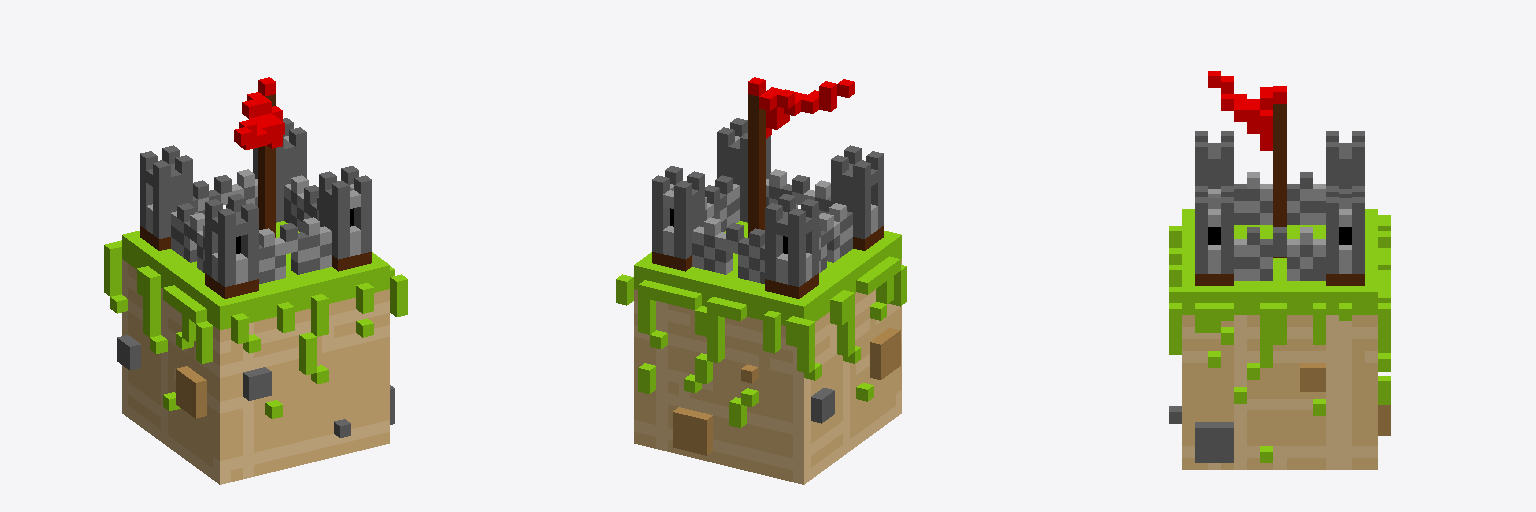
3 views of the same model, side by side, from view 1: azimuth 30°, elevation 25°; view 2: azimuth 150°, elevation 25°; view 3: azimuth 270°, elevation 25° (orthographic).
Parts seen in each view (by area): view 1: object 1; view 2: object 1; view 3: object 1.
Part boxes in pixels (x1,y1,x2,y2): object 1: (104,77,407,484); object 1: (616,77,906,484); object 1: (1169,71,1390,469).
Size of the model in its own units: 1.7 by 2.9 by 1.7.
1 materials, 1 textured.